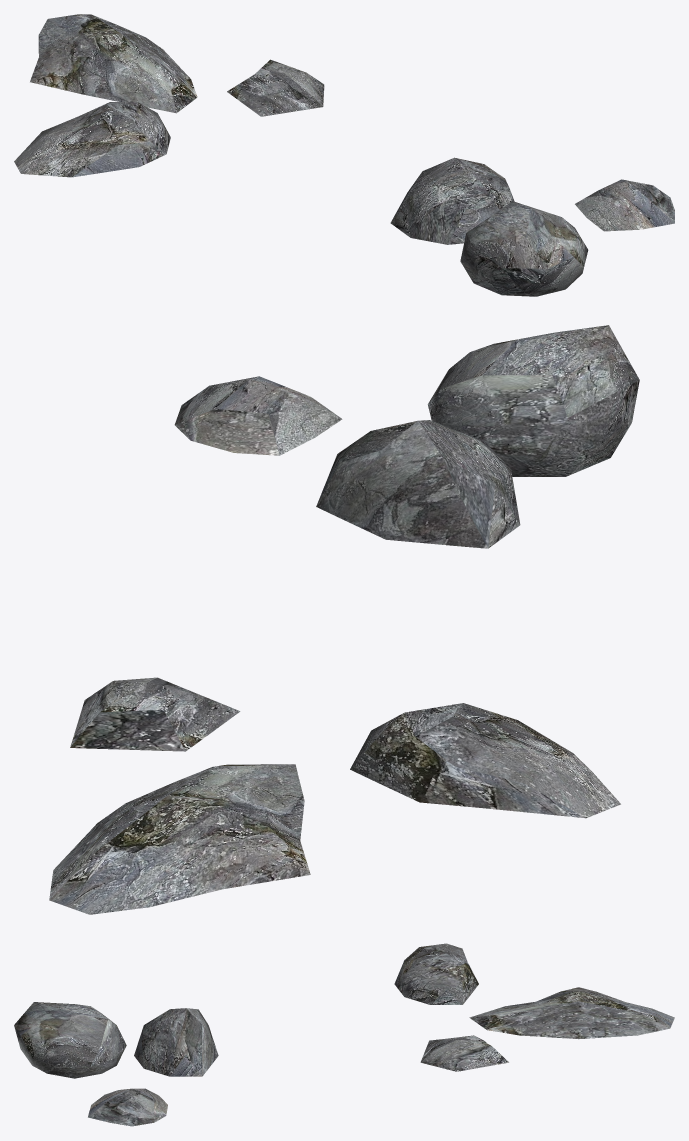
The model's file is Rock003.fbx.
3 renders of one model, top to bottom at view 1: azimuth 30°, elevation 25°; view 2: azimuth 150°, elevation 25°; view 3: azimuth 270°, elevation 25°, orthographic. The views are drawn at different scales.
Parts seen in each view (by area): view 1: Icosphere; view 2: Icosphere; view 3: Icosphere.
Part boxes in pixels (box(x1,y1,x2,y2)): Icosphere: box(14, 14, 674, 296); Icosphere: box(49, 325, 639, 914); Icosphere: box(14, 943, 674, 1126).
Size of the model in its own units: 816 by 109 by 1266.
1 material, 1 textured.
